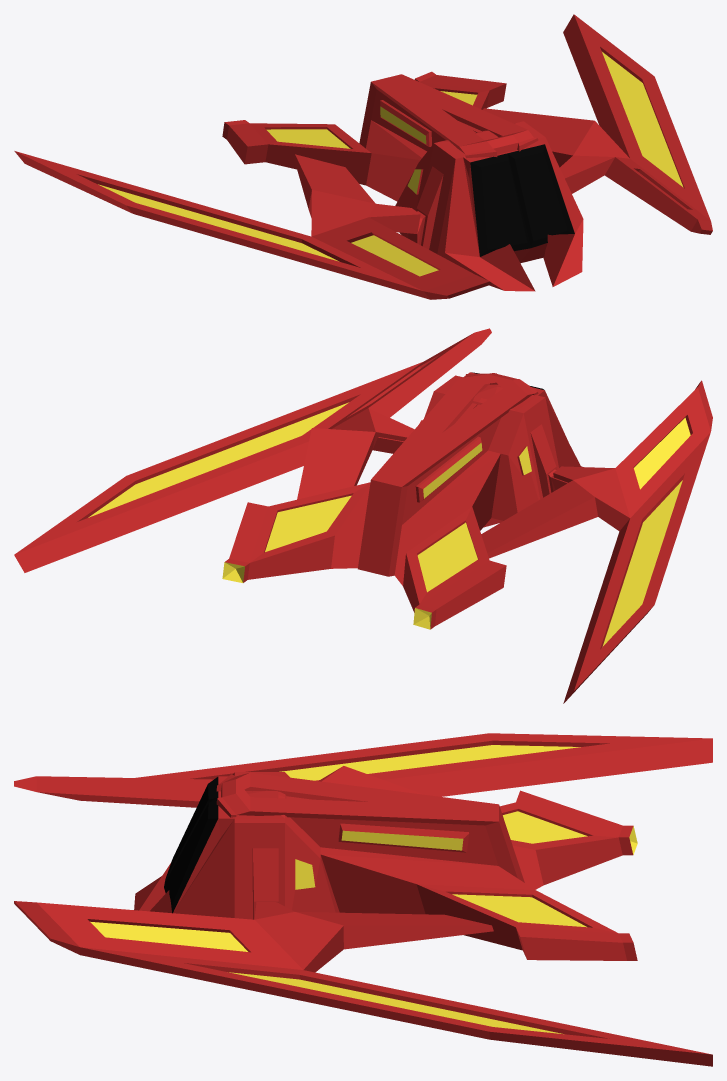
File: statek2.fbx
The picture shows the model from 3 angles, top to bottom: view 1: azimuth 30°, elevation 25°; view 2: azimuth 150°, elevation 25°; view 3: azimuth 270°, elevation 25°; orthographic projection. The views are drawn at different scales.
Visible parts, largest first — view 1: Cube; view 2: Cube; view 3: Cube.
Boxes of the visible parts, <box> form: Cube: <box>14,14,712,299</box>; Cube: <box>14,328,712,703</box>; Cube: <box>14,733,712,1066</box>.
Bounding box in the file's own units: 2975 × 615 × 2779.
